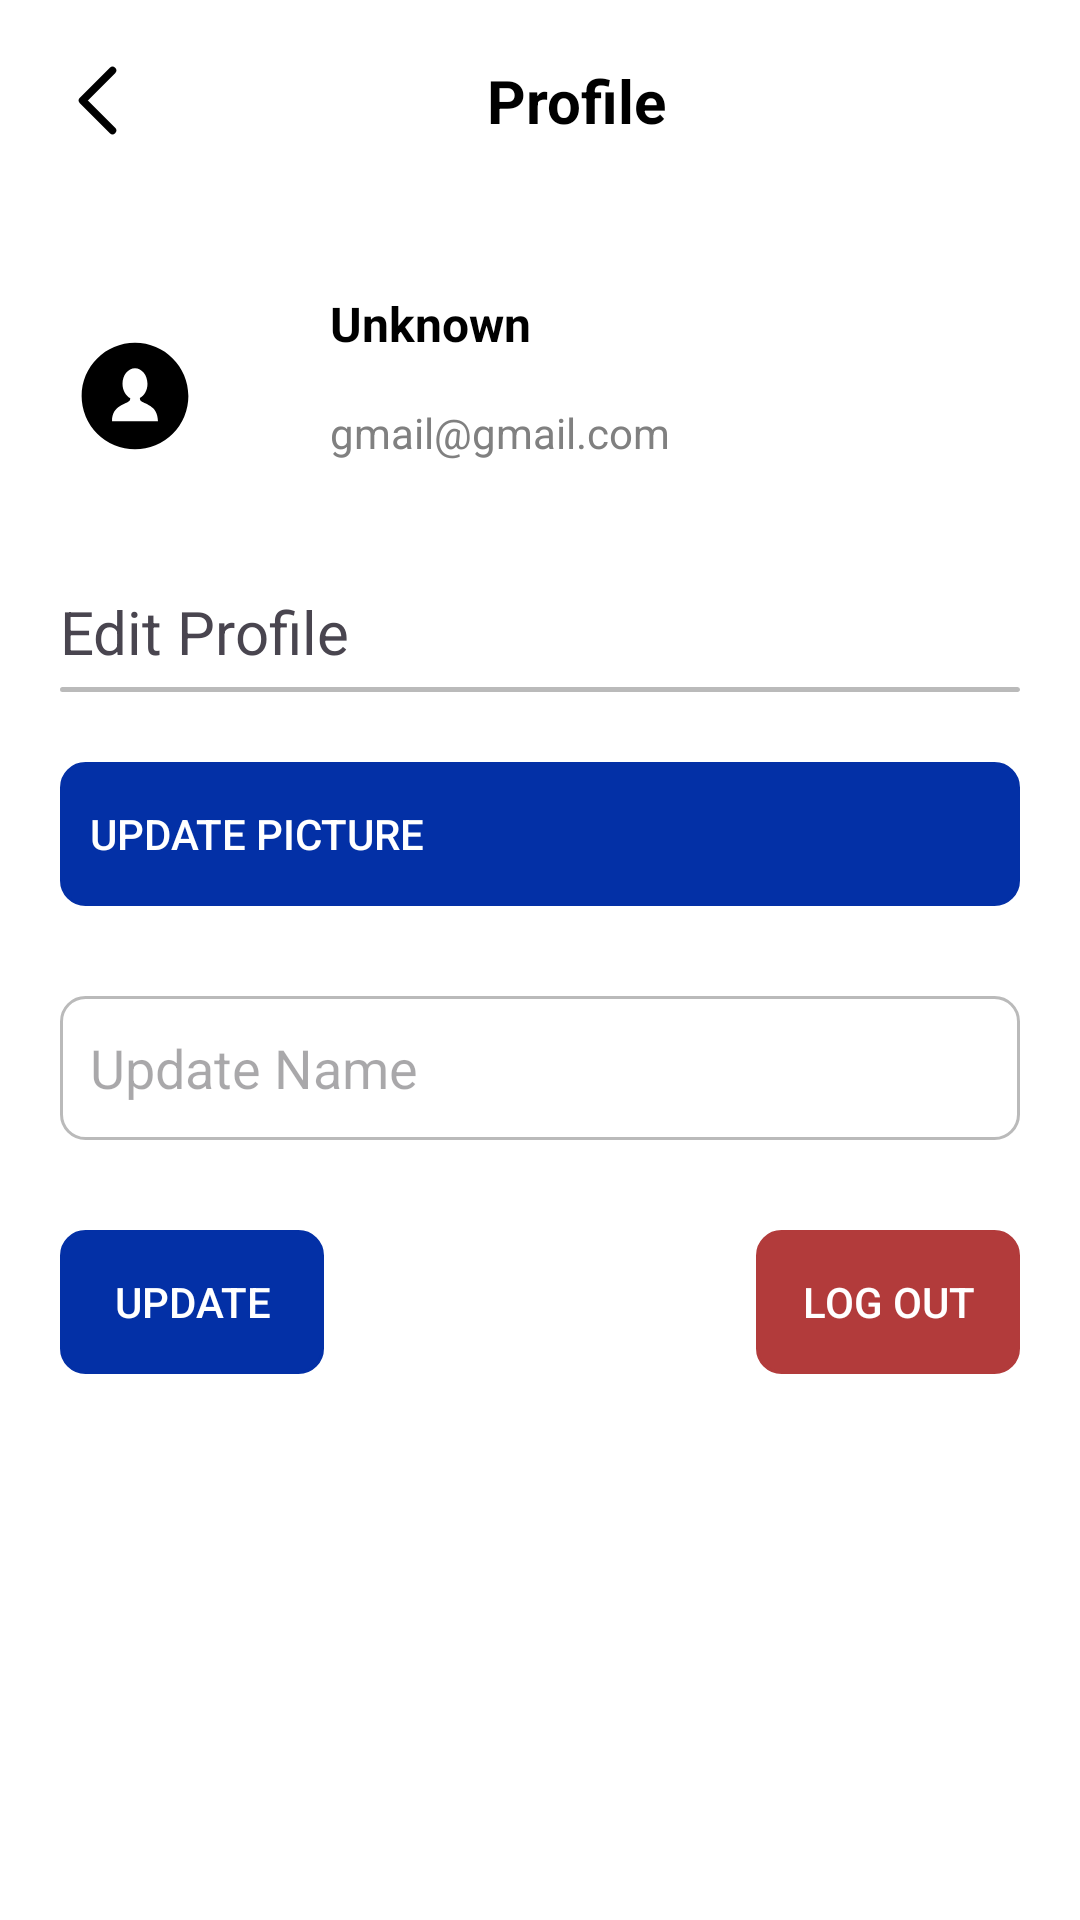

Screen size 1080px x 1920px. Icon name, then its center in pixels as point (x, y):
leftarrow: point (97, 100)
user: point (135, 396)
